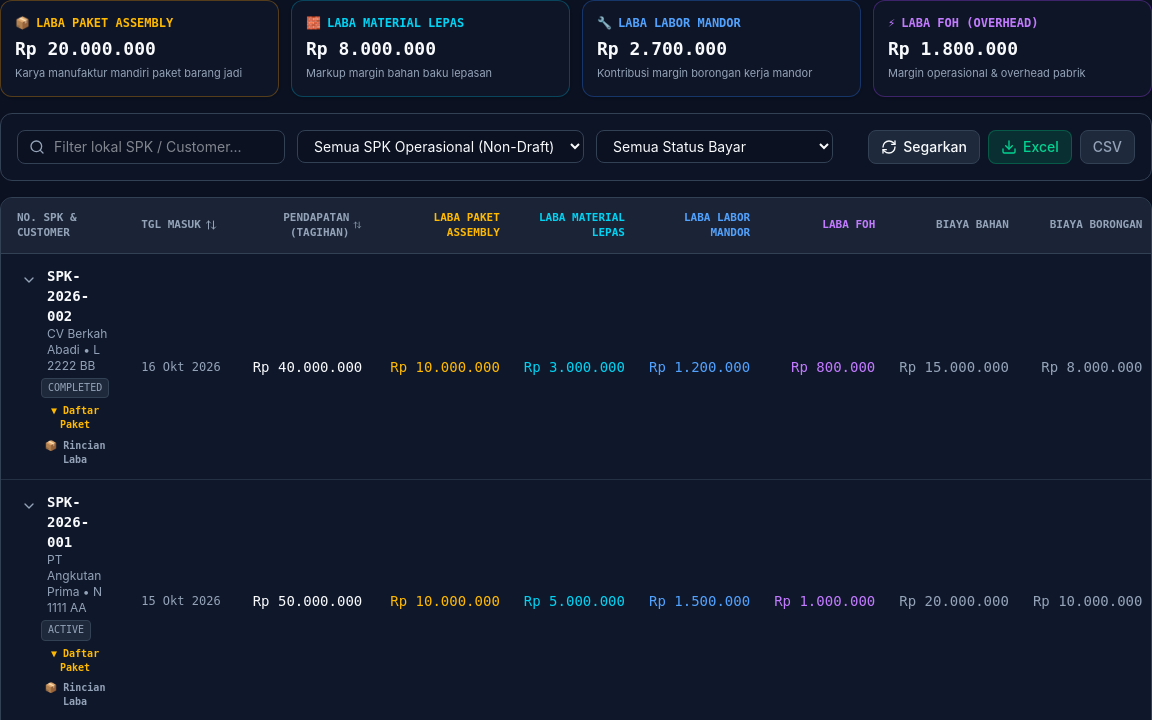
Component: JobProfitabilityTab (Operational SPKs & 4-Pillar Segregated Margins) › opens ItemizedProfitModal drill-down when clicking Rincian Laba button and allows closing it
Expected: the text "SPK-2026-001" is shown, [47, 494, 89, 550]
Click the button with test id "btn-breakdown-spk-active-1" at [75, 696], box [41, 681, 109, 710]
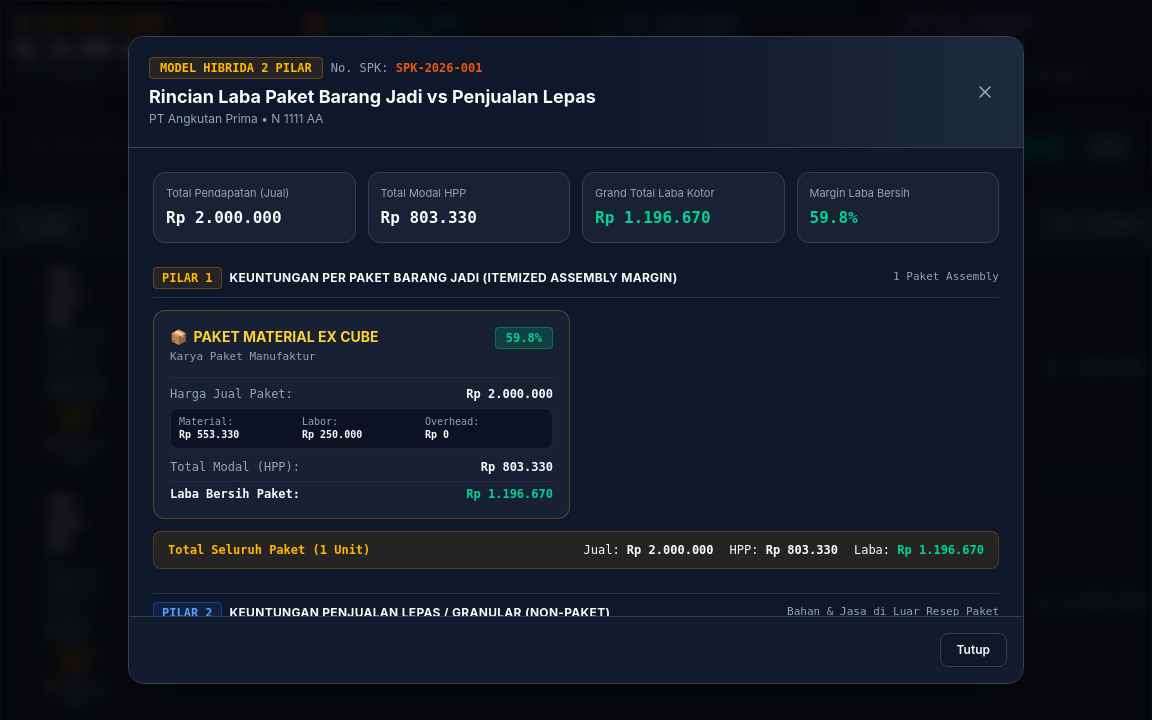
Expected: the heading "Rincian Laba Paket Barang Jadi vs Penjualan Lepas" is shown, [149, 83, 596, 111]
Expected: the text "Model Hibrida 2 Pilar" is shown, [149, 57, 323, 79]
Expected: the text "PILAR 1" is shown, [153, 266, 222, 288]
Note: Close modal
Click the button "Tutup" at [973, 650], box [940, 633, 1007, 667]
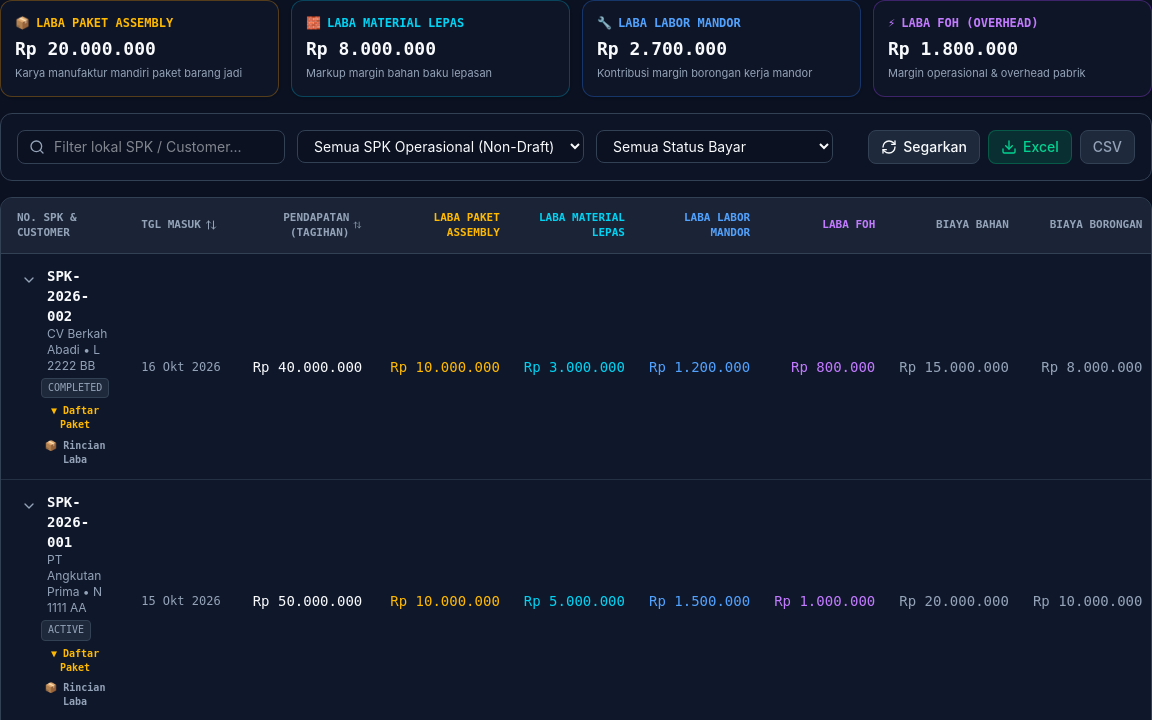
Expected: the heading "Rincian Laba Paket Barang Jadi vs Penjualan Lepas" is gone
